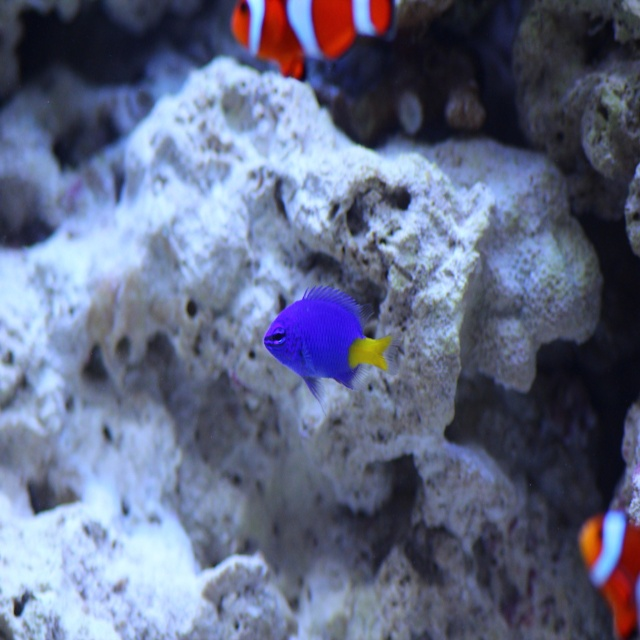Fish: (262, 285, 403, 417), (231, 0, 404, 72), (580, 522, 640, 639)
